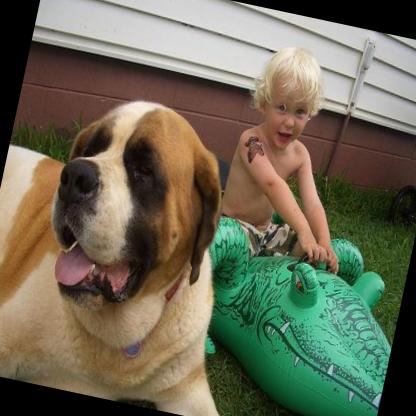Saint_Bernard: (0, 70, 284, 416)
